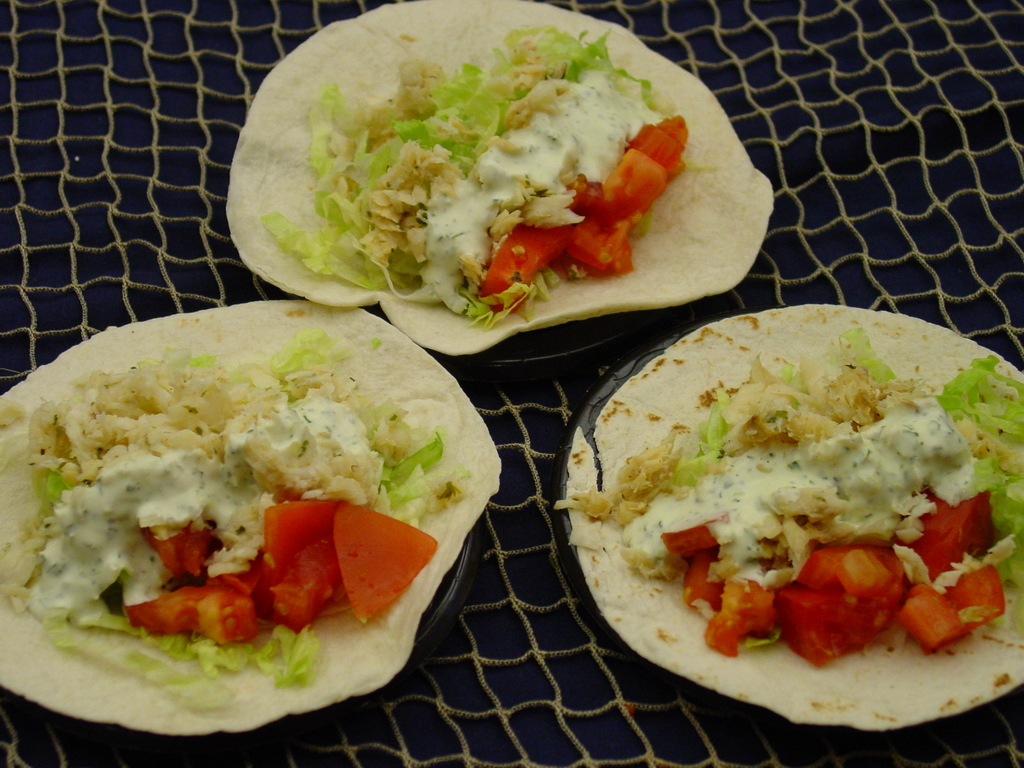taco: (1, 306, 503, 736), (556, 301, 1023, 732), (226, 0, 774, 355)
